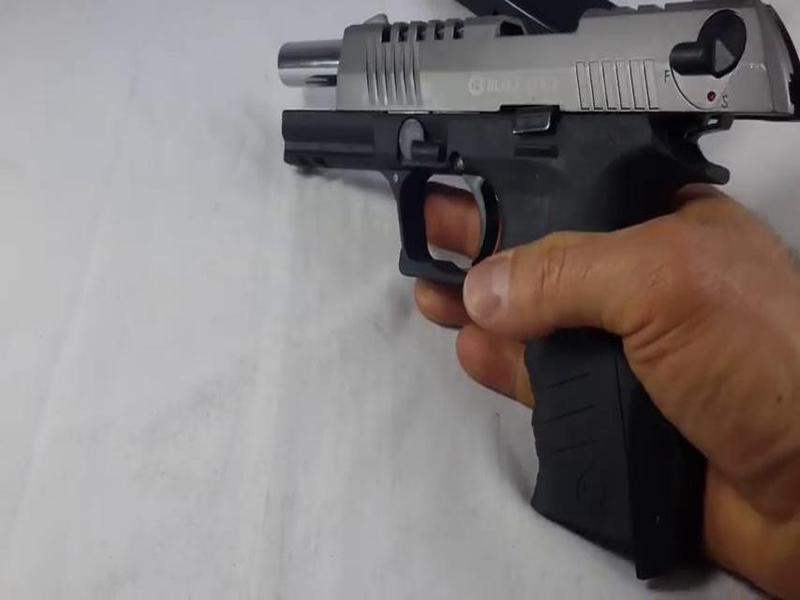Pistola: (277, 1, 779, 545)
